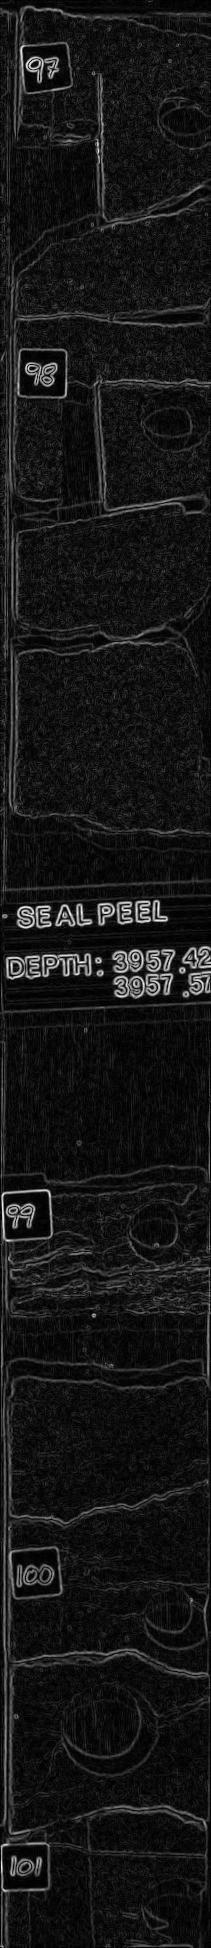hplug: (134, 1579, 211, 1655), (124, 1193, 199, 1268), (137, 1871, 211, 1943), (134, 381, 211, 451), (150, 77, 211, 154)
scal: (46, 1675, 170, 1786)
vplug: (40, 70, 118, 243), (43, 369, 122, 526), (22, 1813, 104, 1948)
